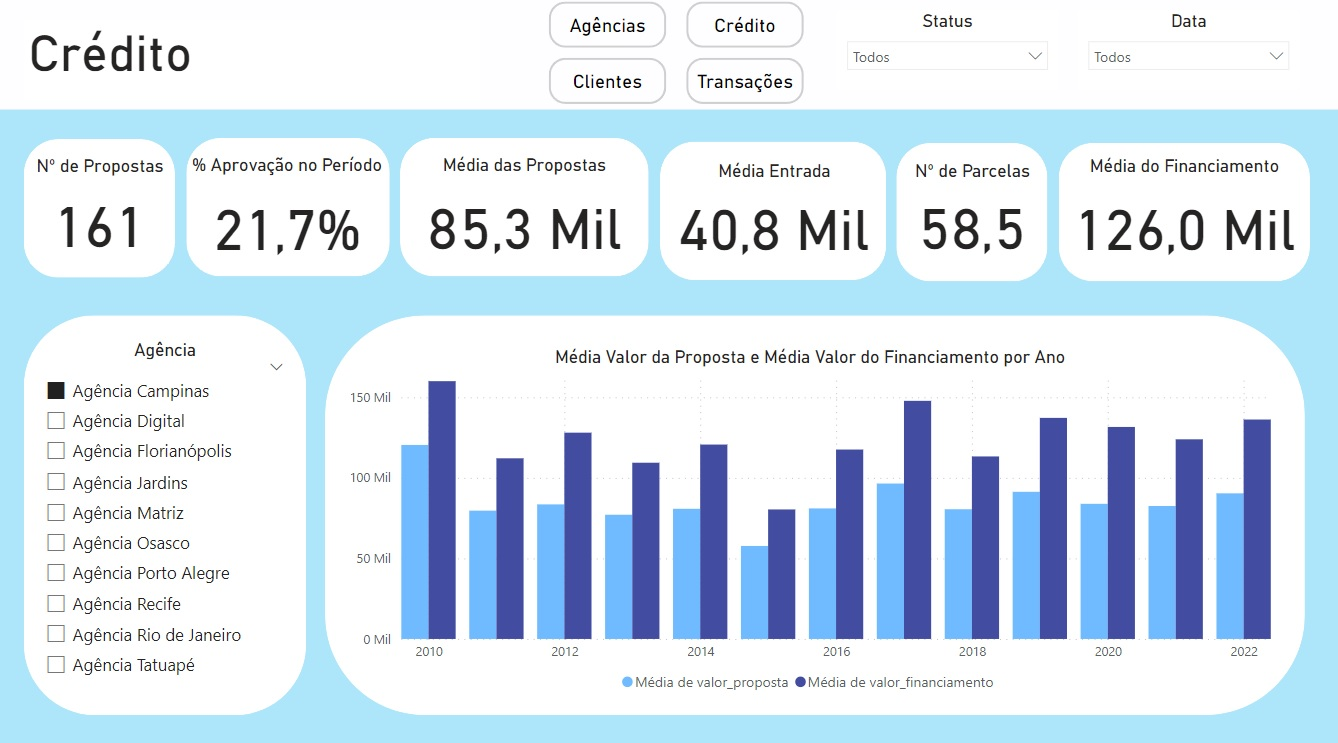

The page's visual inventory and layout, read from the dashboard file:
{"tool":"powerbi","page":{"name":"Proposta de Crédito","canvas":[1280,720],"ordinal":3},"visuals":[{"type":"shape","box":[30.9,310.6,1216.3,380.4],"z":0},{"type":"shape","box":[181.6,141.9,194,132.1],"z":1000},{"type":"shape","box":[27.4,142.8,144,132.1],"z":2000},{"type":"slicer","title":"Data","fields":{"Values":["propostas_credito.data_entrada_proposta.Variation.Hierarquia de datas.Ano","propostas_credito.data_entrada_proposta.Variation.Hierarquia de datas.Mês"]},"box":[1030.6,20.2,211.8,76.2],"z":3000},{"type":"textbox","box":[17.9,153.5,164.2,35.7],"z":4000},{"type":"card","fields":{"Values":["propostas_credito_medidas.Contagem de Propostas de Crédito"]},"box":[33.3,199.9,132.1,61.9],"z":5000},{"type":"textbox","box":[46.4,11.9,542.7,84.5],"z":6000},{"type":"lineClusteredColumnComboChart","title":"Média Valor da Proposta e Média Valor do Financiamento por Ano","fields":{"Category":["propostas_credito.data_entrada_proposta.Variation.Hierarquia de datas.Ano","propostas_credito.data_entrada_proposta.Variation.Hierarquia de datas.Trimestre","propostas_credito.data_entrada_proposta.Variation.Hierarquia de datas.Mês","propostas_credito.data_entrada_proposta.Variation.Hierarquia de datas.Dia"],"Y":["Avg(propostas_credito.valor_proposta)","Avg(propostas_credito.valor_financiamento)"]},"box":[54.7,340.4,1166.3,338],"z":7000},{"type":"textbox","box":[173.3,152.6,208.3,35.7],"z":8000},{"type":"card","fields":{"Values":["propostas_credito_medidas.Taxa de Aprovados"]},"box":[186.4,202.6,183.3,61.9],"z":9000},{"type":"shape","box":[385.6,141.9,236.8,132.1],"z":10000},{"type":"textbox","box":[401.1,152.6,205.9,35.7],"z":11000},{"type":"card","fields":{"Values":["Avg(propostas_credito.valor_proposta)"]},"box":[389.2,201.4,230.9,61.9],"z":12000},{"type":"shape","box":[1012.8,146.4,239.2,132.1],"z":13000},{"type":"textbox","box":[1016.3,153.5,232.1,35.7],"z":14000},{"type":"card","fields":{"Values":["Avg(propostas_credito.valor_financiamento)"]},"box":[1006.8,202.3,252.3,61.9],"z":15000},{"type":"slicer","title":"Status","fields":{"Values":["propostas_credito.status_proposta"]},"box":[800.9,20.2,211.8,76.2],"z":16000},{"type":"shape","box":[858.3,146.1,144,132.1],"z":17000},{"type":"textbox","box":[859.5,158,142.8,35.7],"z":18000},{"type":"card","fields":{"Values":["Avg(propostas_credito.quantidade_parcelas)"]},"box":[868.8,201.1,122.6,61.9],"z":19000},{"type":"shape","box":[632.9,145.2,215.4,132.1],"z":20000},{"type":"textbox","box":[642.4,158.3,198.7,35.7],"z":21000},{"type":"card","fields":{"Values":["Avg(propostas_credito.valor_entrada)"]},"box":[637.9,202.3,208.3,61.9],"z":22000}]}

Visuals, with their boxes in screenshot pixels (x1, y1, x2, y2), scaled from the page's 1280x720 canvas onto the 1338x743 screenshot:
shape: [left=32, top=321, right=1304, bottom=713]
shape: [left=190, top=146, right=393, bottom=283]
shape: [left=29, top=147, right=179, bottom=284]
"Data" slicer: [left=1077, top=21, right=1299, bottom=99]
textbox: [left=19, top=158, right=190, bottom=195]
card - propostas_credito_medidas.Contagem de Propostas de Crédito: [left=35, top=206, right=173, bottom=270]
textbox: [left=49, top=12, right=616, bottom=99]
"Média Valor da Proposta e Média Valor do Financiamento por Ano" lineClusteredColumnComboChart: [left=57, top=351, right=1276, bottom=700]
textbox: [left=181, top=157, right=399, bottom=194]
card - propostas_credito_medidas.Taxa de Aprovados: [left=195, top=209, right=386, bottom=273]
shape: [left=403, top=146, right=651, bottom=283]
textbox: [left=419, top=157, right=635, bottom=194]
card - Avg(propostas_credito.valor_proposta): [left=407, top=208, right=648, bottom=272]
shape: [left=1059, top=151, right=1309, bottom=287]
textbox: [left=1062, top=158, right=1305, bottom=195]
card - Avg(propostas_credito.valor_financiamento): [left=1052, top=209, right=1316, bottom=273]
"Status" slicer: [left=837, top=21, right=1059, bottom=99]
shape: [left=897, top=151, right=1048, bottom=287]
textbox: [left=898, top=163, right=1048, bottom=200]
card - Avg(propostas_credito.quantidade_parcelas): [left=908, top=208, right=1036, bottom=271]
shape: [left=662, top=150, right=887, bottom=286]
textbox: [left=672, top=163, right=879, bottom=200]
card - Avg(propostas_credito.valor_entrada): [left=667, top=209, right=885, bottom=273]
